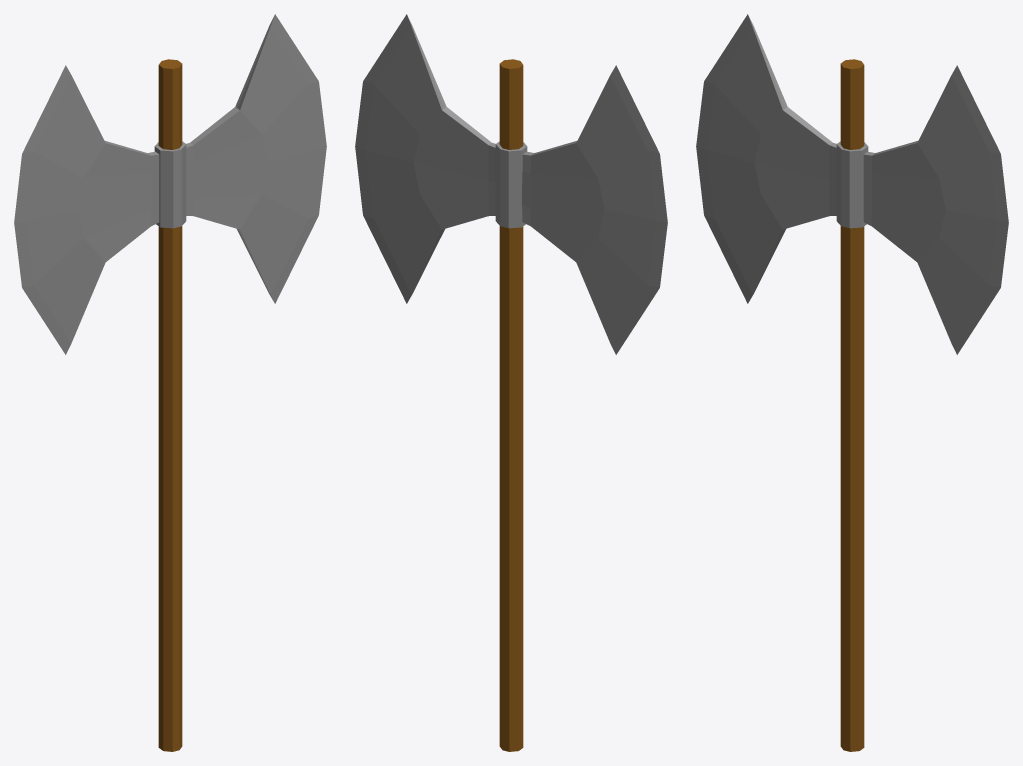
File: Battleaxe.fbx
3 views of the same model, side by side, from view 1: azimuth 30°, elevation 25°; view 2: azimuth 150°, elevation 25°; view 3: azimuth 330°, elevation 25° (orthographic).
Visible parts, largest first — view 1: Cylinder.005; view 2: Cylinder.005; view 3: Cylinder.005.
Part boxes in pixels (bbox=[...]): Cylinder.005: bbox=[14, 14, 326, 751]; Cylinder.005: bbox=[355, 14, 667, 751]; Cylinder.005: bbox=[696, 14, 1008, 751].
Size of the model in its own units: 177 by 383 by 13.7.
